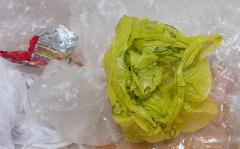general: (1, 25, 75, 66)
plastic: (106, 14, 222, 136)
